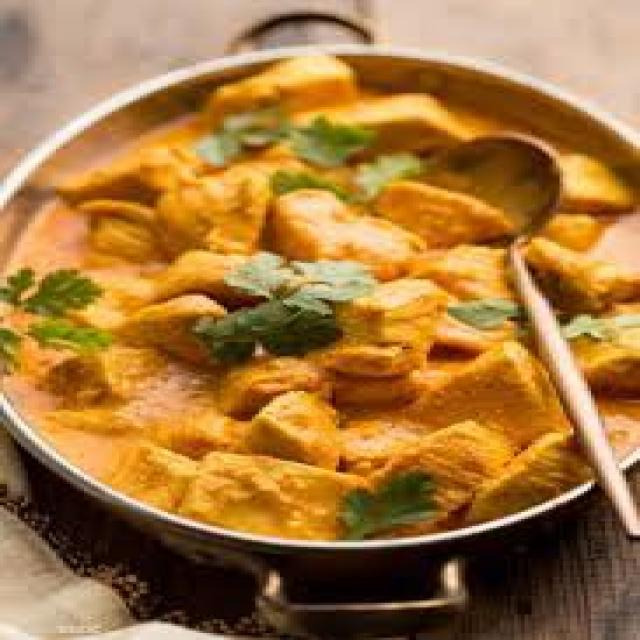Butter Chicken: (3, 59, 640, 546)
